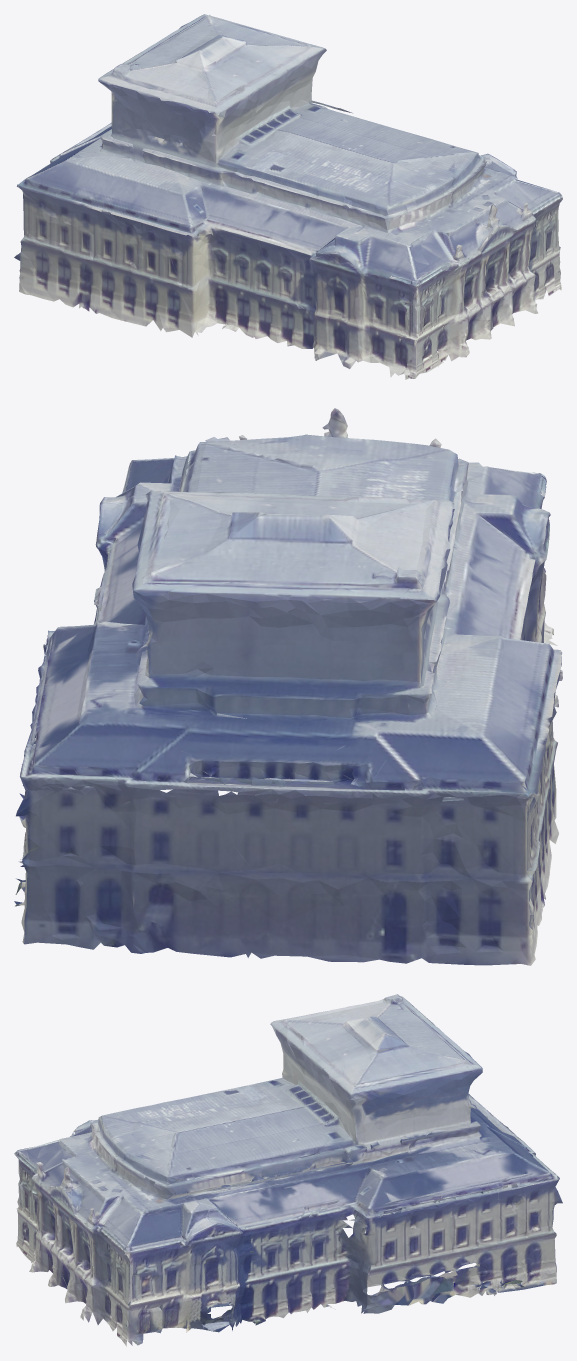
Rendered from grand-theatre.glb.
3 views of the same model, one above another, from view 1: azimuth 30°, elevation 25°; view 2: azimuth 150°, elevation 25°; view 3: azimuth 270°, elevation 25° (orthographic). The views are drawn at different scales.
Bounding box in the file's own units: 74.65 × 39.79 × 88.42.
3 materials, 3 textured.
